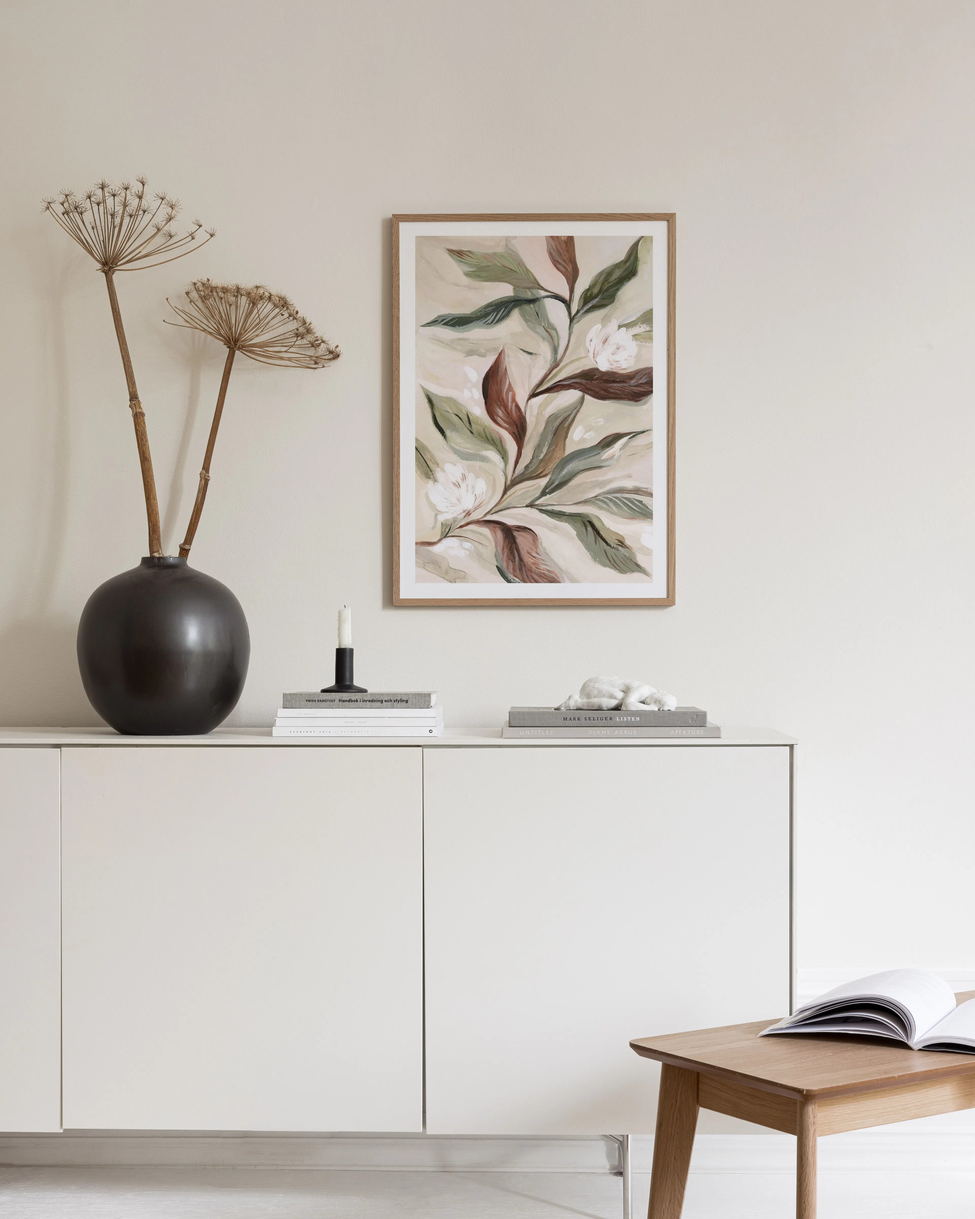painting: (388, 211, 677, 609)
